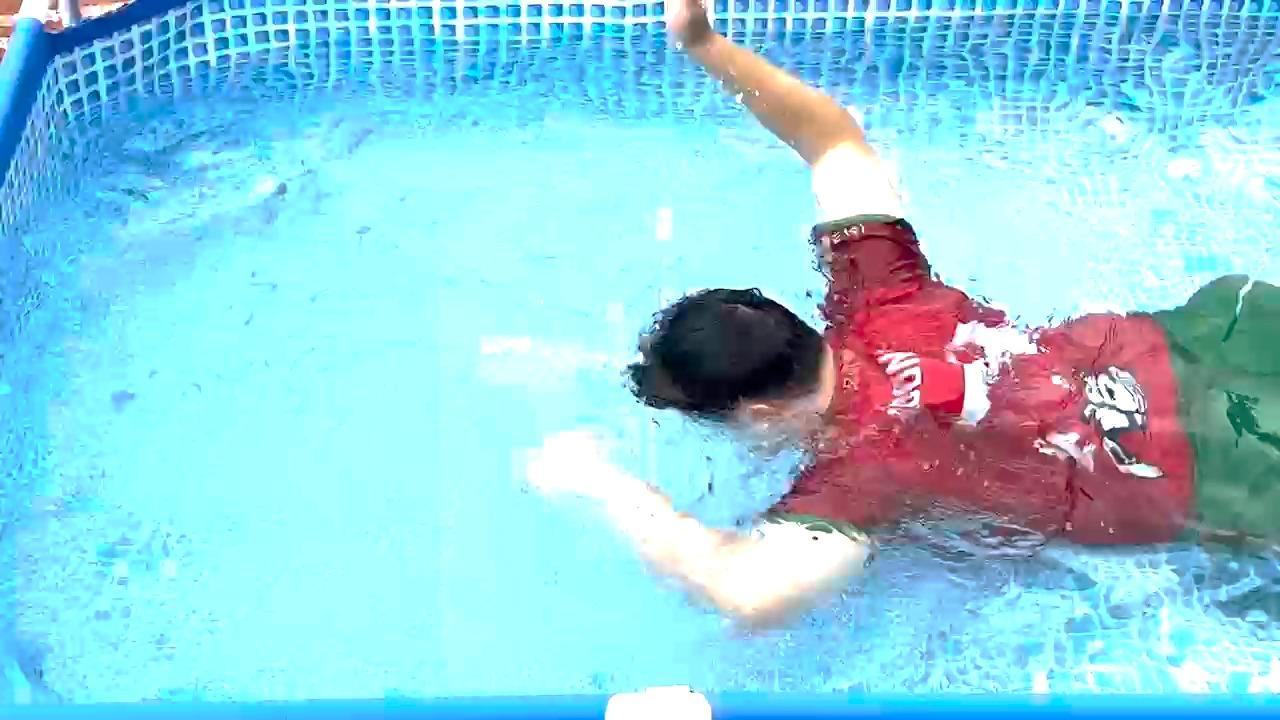Drowning: (417, 0, 1280, 677)
